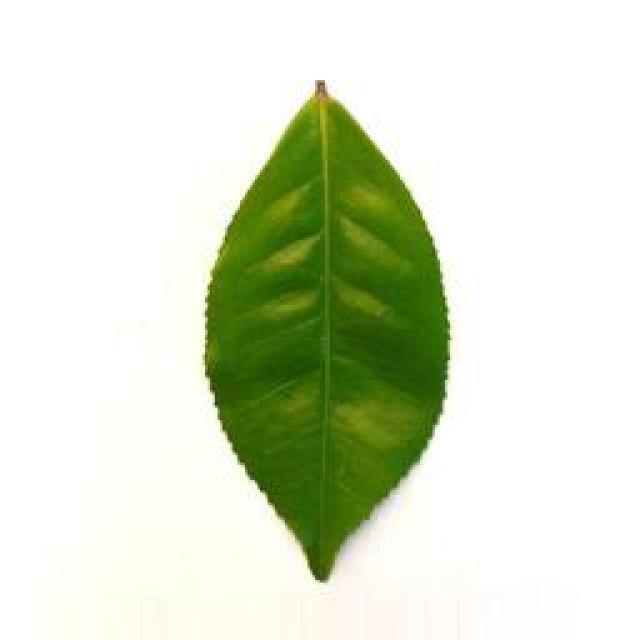Healthy: (175, 66, 478, 587)
